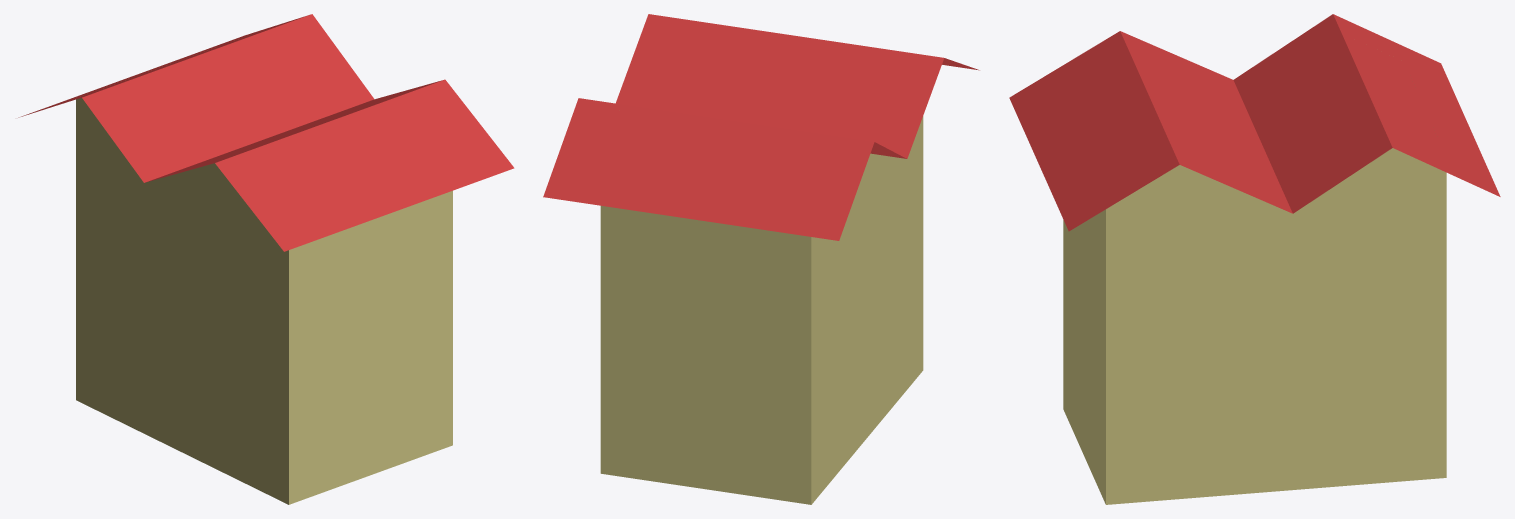
The picture shows the model from 3 angles, left to right: view 1: azimuth 30°, elevation 25°; view 2: azimuth 150°, elevation 25°; view 3: azimuth 270°, elevation 25°; orthographic projection. The views are drawn at different scales.
Bounding box in the file's own units: 6.42 × 7.93 × 6.31.
